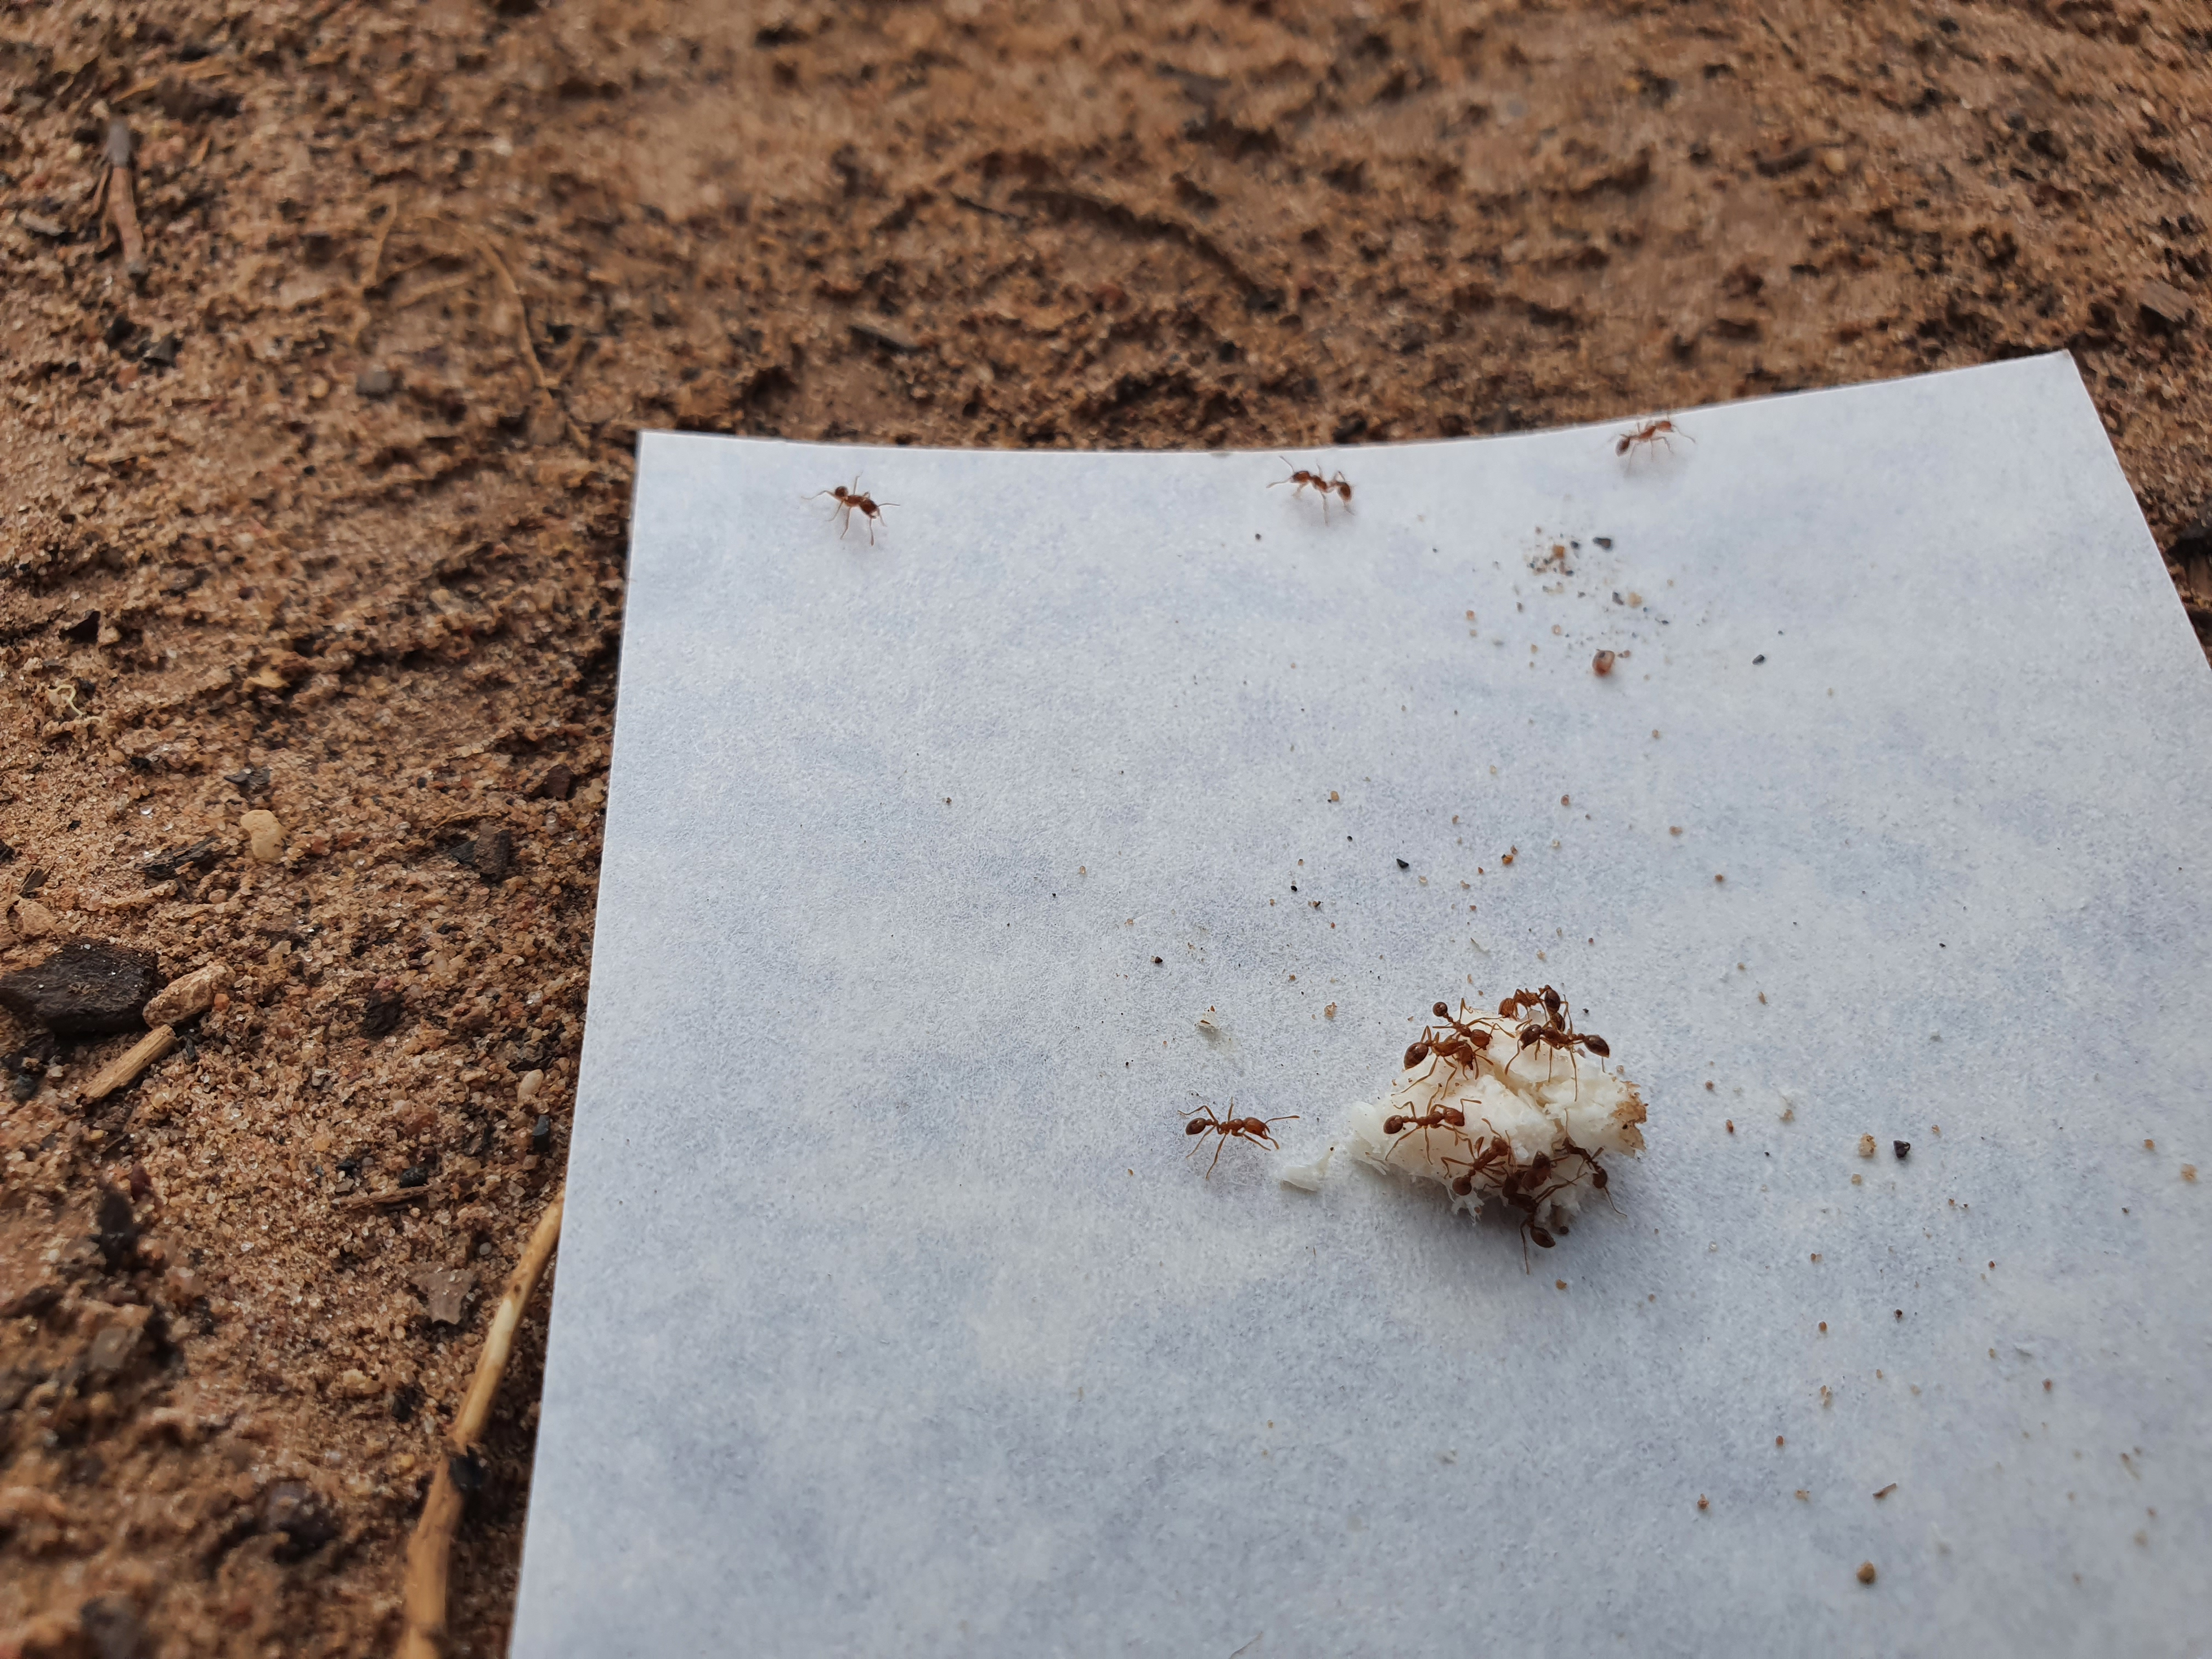Solenopsis_geminata: (1165, 1070, 1308, 1208), (794, 450, 902, 577), (1256, 444, 1371, 554), (1498, 1012, 1632, 1103), (1595, 394, 1705, 498), (1366, 1082, 1477, 1159)
